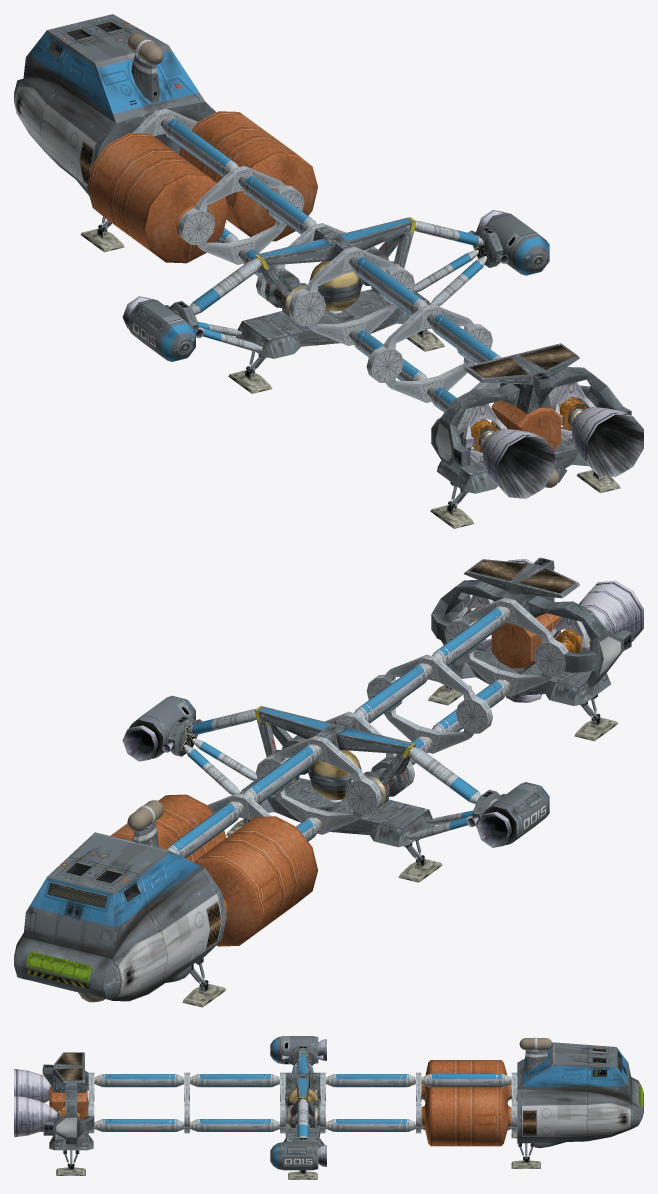
The model's file is shuttlea.obj.
The picture shows the model from 3 angles, top to bottom: view 1: azimuth 30°, elevation 25°; view 2: azimuth 150°, elevation 25°; view 3: azimuth 270°, elevation 25°; orthographic projection. The views are drawn at different scales.
Visible parts, largest first — view 1: External_Tank, frames, Crew_Module_Sides, beams, Crew_Module_Top, Bottom_Structure, Aft_Structure, Mid_Structure, Main_Engine_L, Main_Engine_R, Pod_Structure, Aft_Shelve (+7 smaller); view 2: Crew_Module_Sides, frames, External_Tank, beams, Crew_Module_Forward, Bottom_Structure, Aft_Structure, Mid_Structure, Pod_Structure, Crew_Module_Top, Main_Engine_L, Aft_Shelve (+11 smaller); view 3: Crew_Module_Sides, beams, External_Tank, frames, Aft_Structure, Crew_Module_Top, Main_Engine_R, Aux_Engine_Pod_Right, Mid_Structure, Bottom_Structure, Main_Engine_L, Aft_Shelve (+11 smaller).
Part boxes in pixels (x1=…): External_Tank: x1=87, y1=111, x2=317, y2=263; frames: x1=132, y1=108, x2=570, y2=430; Crew_Module_Sides: x1=14, y1=22, x2=215, y2=188; beams: x1=160, y1=117, x2=501, y2=420; Crew_Module_Top: x1=47, y1=14, x2=204, y2=123; Bottom_Structure: x1=235, y1=289, x2=588, y2=493; Aft_Structure: x1=431, y1=367, x2=631, y2=475; Mid_Structure: x1=255, y1=217, x2=416, y2=323; Main_Engine_L: x1=470, y1=419, x2=554, y2=498; Main_Engine_R: x1=559, y1=397, x2=643, y2=477; Pod_Structure: x1=189, y1=220, x2=487, y2=351; Aft_Shelve: x1=464, y1=343, x2=579, y2=384; Crew_Module_Sides: x1=14, y1=821, x2=226, y2=1001; frames: x1=207, y1=597, x2=568, y2=913; External_Tank: x1=110, y1=794, x2=317, y2=946; beams: x1=166, y1=606, x2=510, y2=858; Crew_Module_Forward: x1=14, y1=877, x2=114, y2=998; Bottom_Structure: x1=240, y1=639, x2=610, y2=847; Aft_Structure: x1=431, y1=557, x2=631, y2=687; Mid_Structure: x1=254, y1=706, x2=415, y2=812; Pod_Structure: x1=183, y1=709, x2=481, y2=839; Crew_Module_Top: x1=47, y1=832, x2=168, y2=892; Main_Engine_L: x1=554, y1=580, x2=643, y2=652; Aft_Shelve: x1=464, y1=559, x2=579, y2=598; Crew_Module_Sides: x1=517, y1=1048, x2=642, y2=1146; beams: x1=94, y1=1074, x2=511, y2=1131; External_Tank: x1=421, y1=1060, x2=511, y2=1146; frames: x1=88, y1=1072, x2=517, y2=1133; Aft_Structure: x1=42, y1=1064, x2=94, y2=1143; Crew_Module_Top: x1=517, y1=1042, x2=616, y2=1088; Main_Engine_R: x1=14, y1=1095, x2=79, y2=1137; Aux_Engine_Pod_Right: x1=270, y1=1142, x2=318, y2=1170; Mid_Structure: x1=285, y1=1051, x2=320, y2=1115; Bottom_Structure: x1=49, y1=1098, x2=324, y2=1150; Main_Engine_L: x1=14, y1=1069, x2=51, y2=1102; Aft_Shelve: x1=52, y1=1052, x2=84, y2=1082.
Size of the model in its own units: 15.39 by 6.9 by 35.04.
21 materials, 18 textured.
